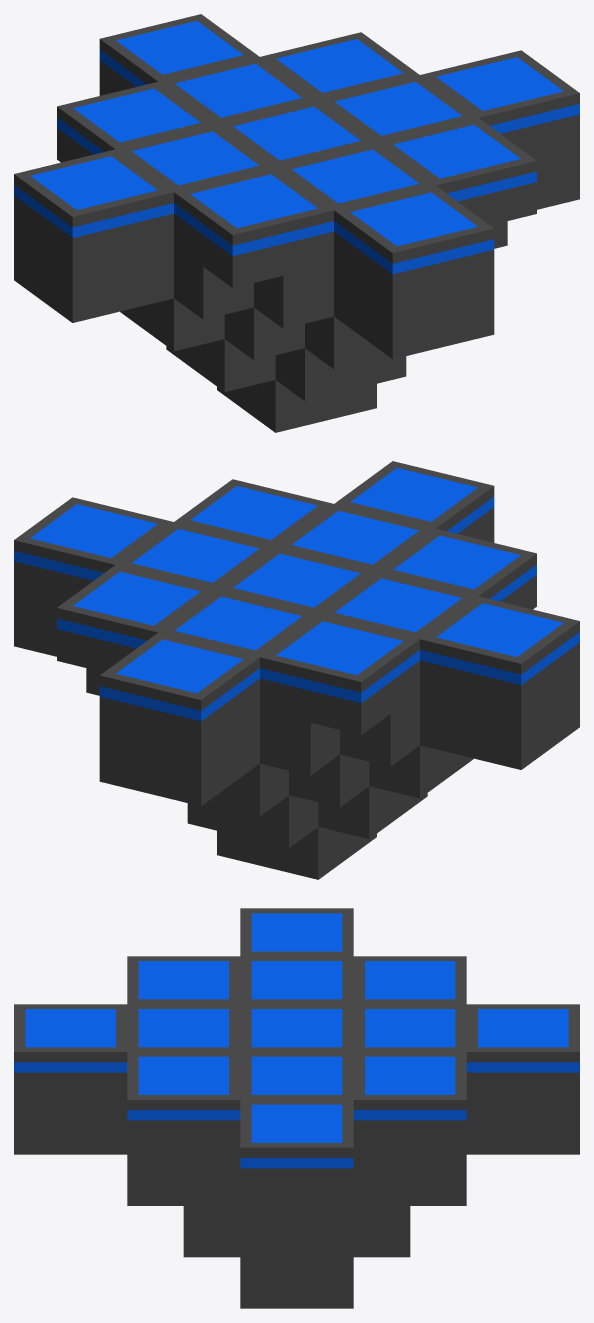
Rendered from platform.fbx.
The picture shows the model from 3 angles, top to bottom: view 1: azimuth 30°, elevation 25°; view 2: azimuth 150°, elevation 25°; view 3: azimuth 270°, elevation 25°; orthographic projection. The views are drawn at different scales.
Visible parts, largest first — view 1: Platform; view 2: Platform; view 3: Platform.
Boxes of the visible parts, x1,y1,x2,y2 form: Platform: (14,14,579,432); Platform: (14,461,579,879); Platform: (14,908,579,1308).
Bounding box in the file's own units: 500 × 250 × 500.
